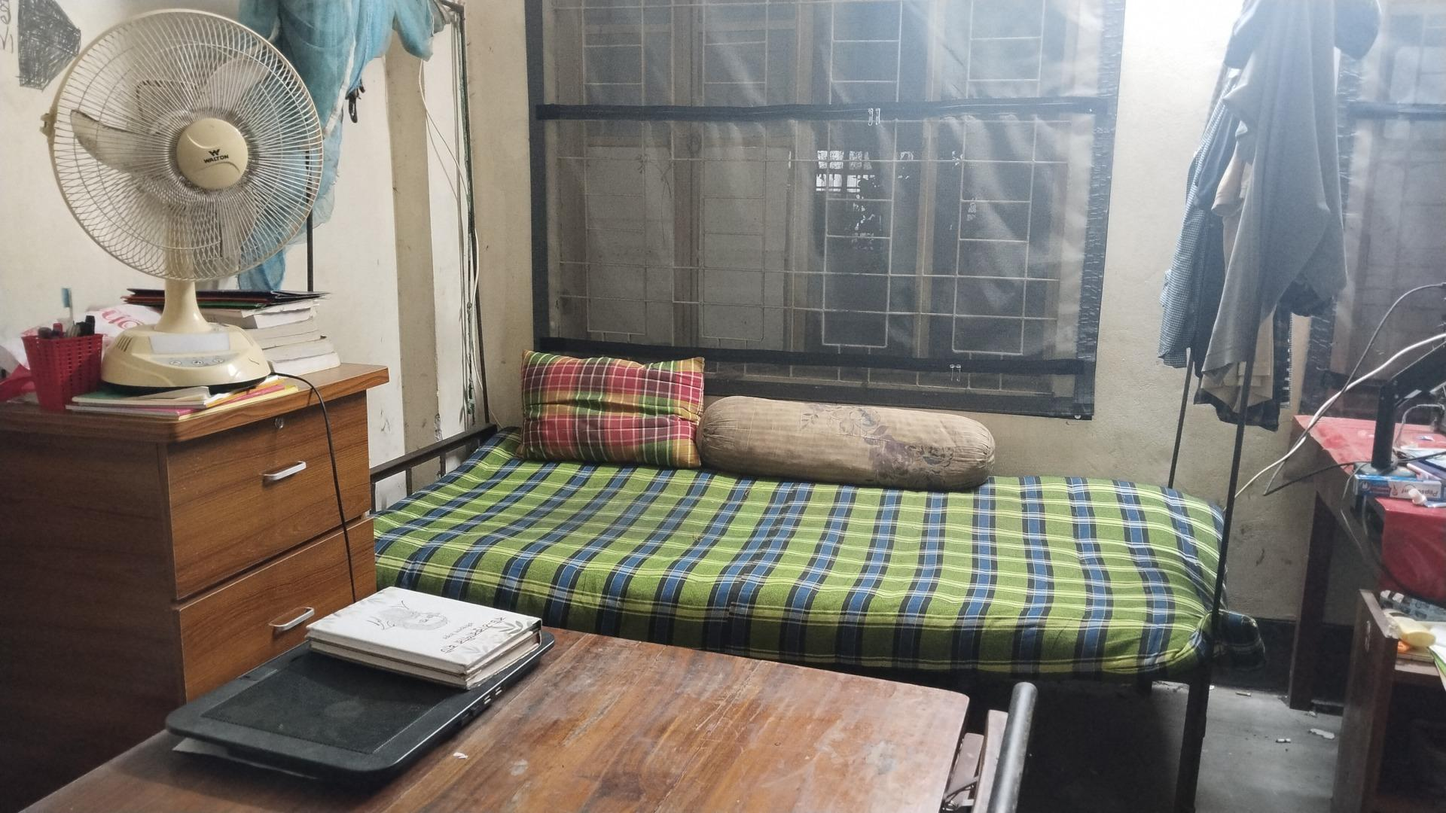Book: (304, 588, 542, 685)
Fan: (49, 17, 326, 389)
Pillow: (708, 392, 991, 489), (522, 350, 704, 471)
Window: (533, 2, 684, 354), (940, 3, 1077, 388), (804, 2, 935, 383), (689, 3, 806, 370)
